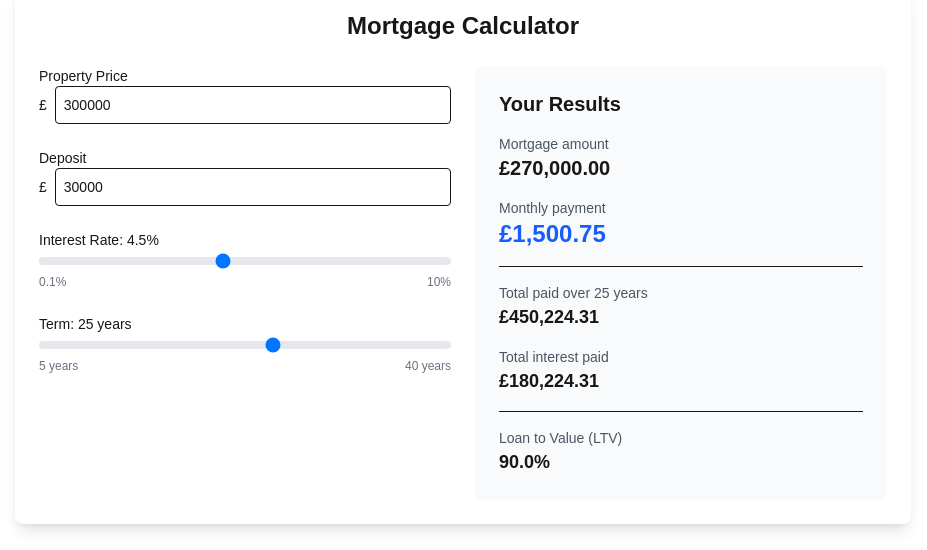
MortgageCalculator › updates calculations when property price changes
Replace the text in the number field labelled "Property Price" with "400000" at [253, 105], box [55, 86, 451, 124]
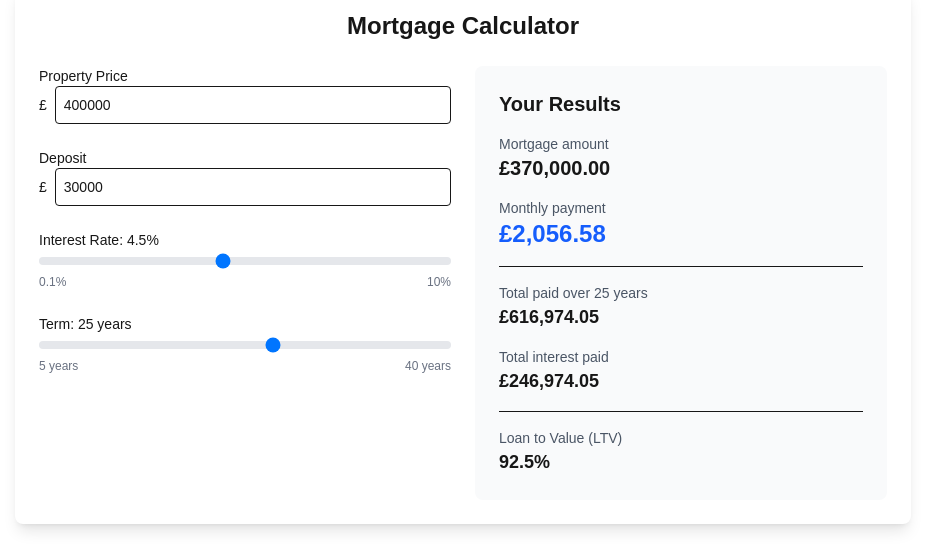
expect the text "£370,000.00" is shown: met, box [499, 157, 610, 179]
expect the text "£2,056.58" is shown: met, box [499, 220, 606, 247]
